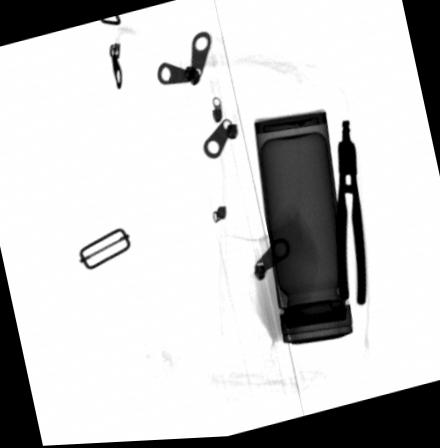Pliers: (332, 123, 367, 310)
